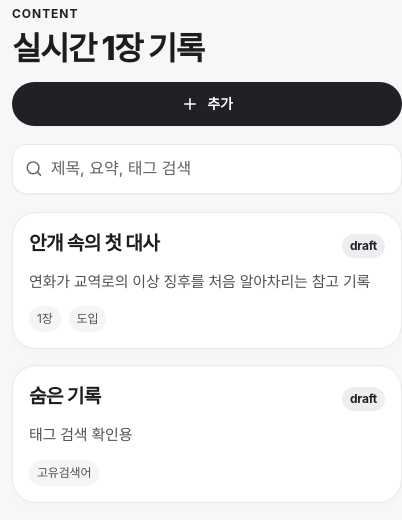
Test: common content entry flow › uses the runtime menu label and filters/searches within work and category
Expected: the heading "실시간 1장 기록" is shown, [12, 29, 204, 68]
Expected: the text "안개 속의 첫 대사" is shown, [29, 229, 159, 257]
Type "고유검색어" into the search field named "실시간 1장 기록 검색" at (220, 169), box [51, 145, 389, 193]
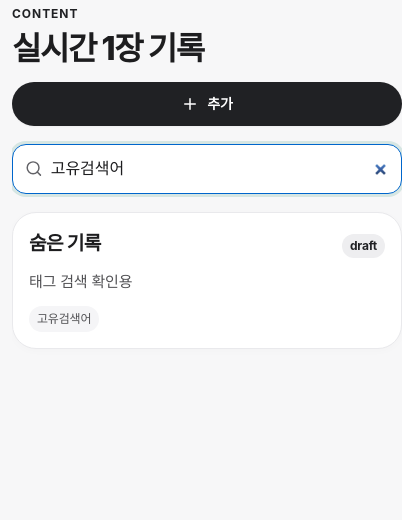
Expected: the text "숨은 기록" is shown, [29, 229, 101, 257]
Expected: the link "안개 속의 첫 대사" is gone
